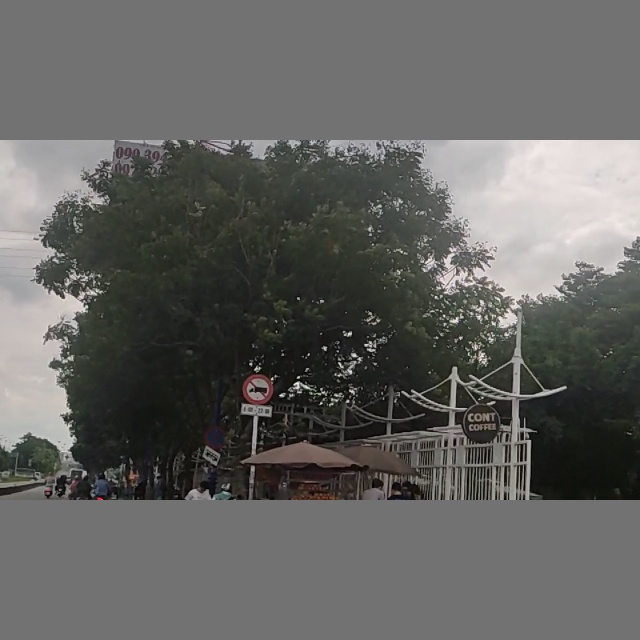B.8a: (244, 375, 277, 416)
